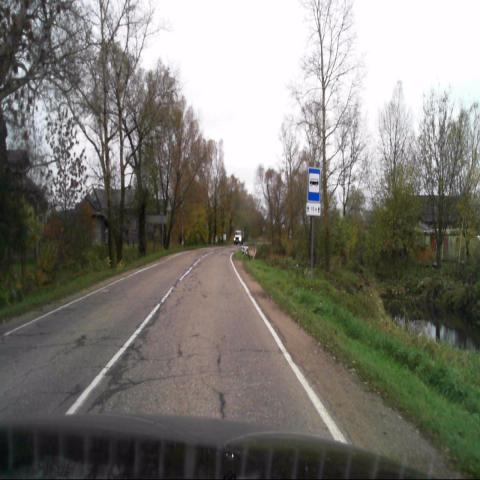5_16: (307, 168, 321, 203)
8_2_1: (306, 204, 320, 216)
